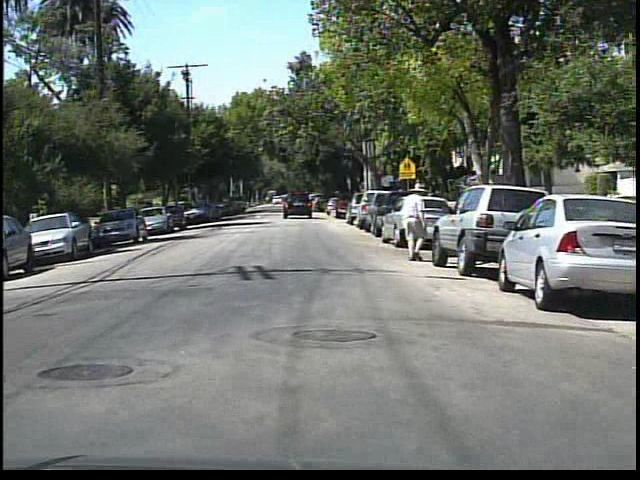person: (393, 182, 437, 265)
